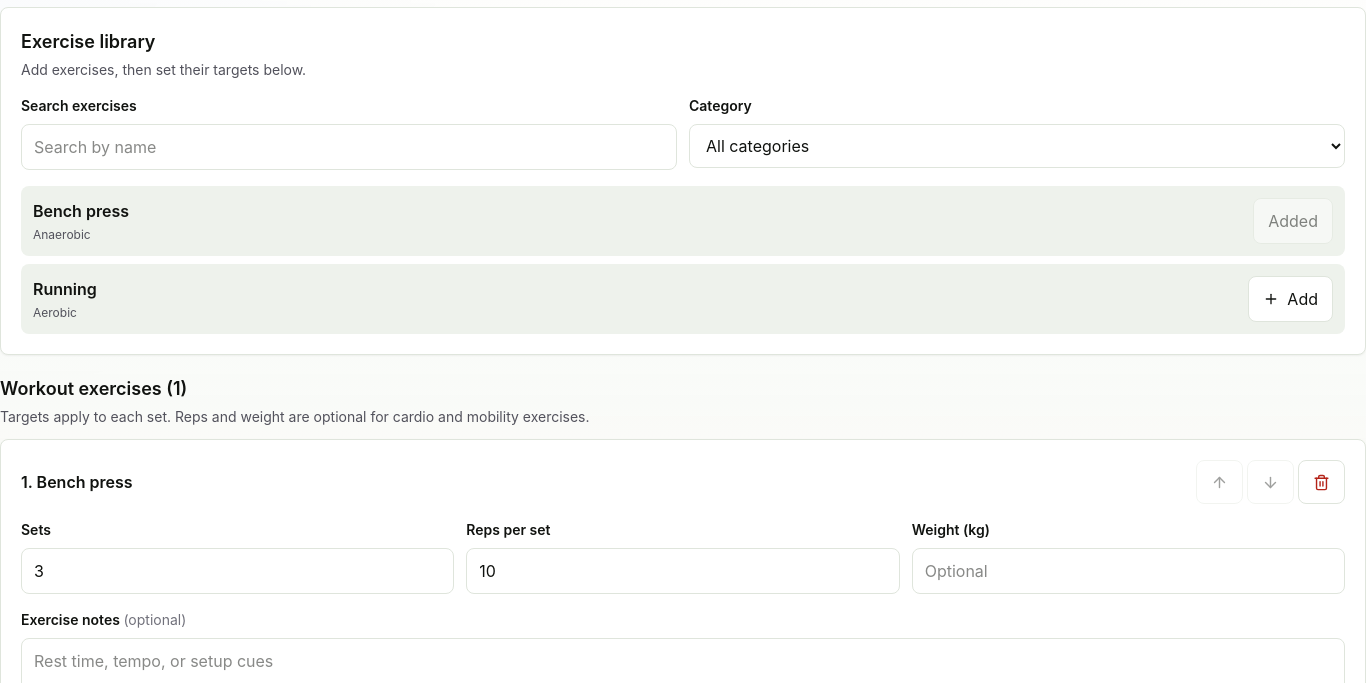
Scenario: workout builder › saves reordered exercises with their own targets and retains the form after a server error
Earlier steps of the test are not shown.
(page scrolled)
Click the button with aria-label "Add Running" at (1291, 299), box [1248,276,1333,322]
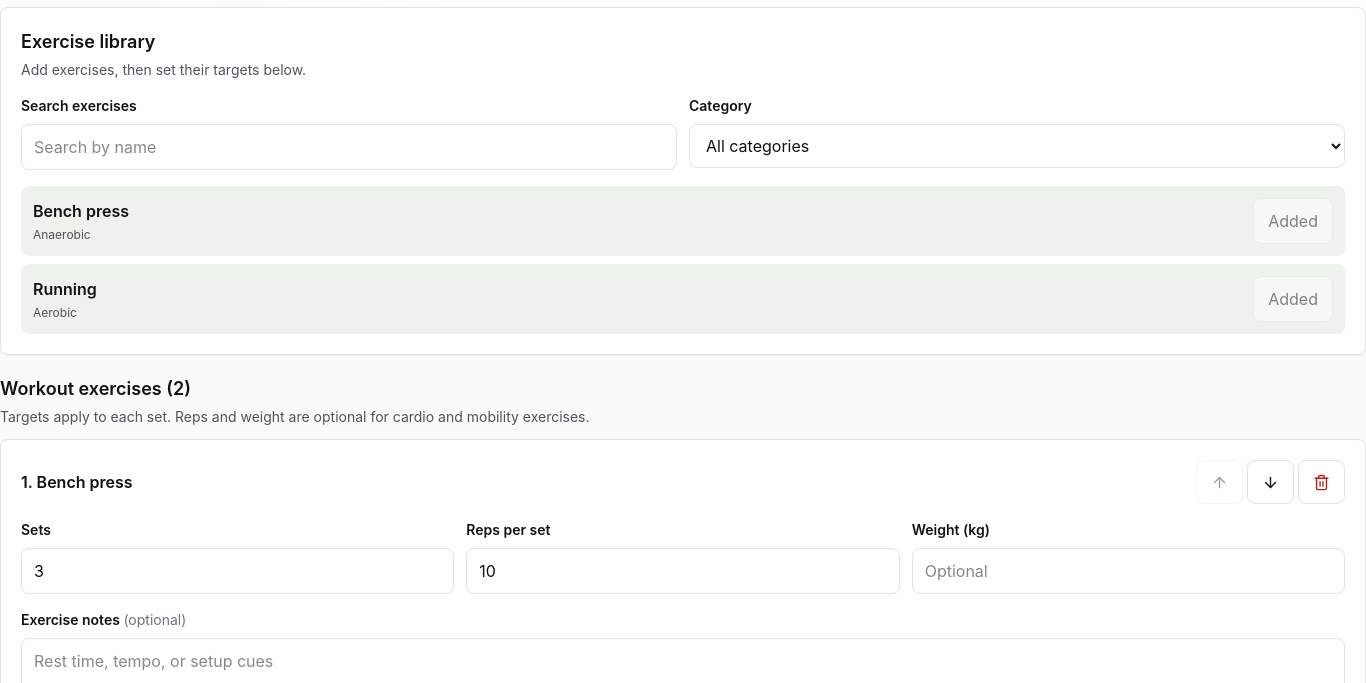
Type "62.5" into the number field labelled "Weight (kg)" at (1128, 571), box [912,548,1345,594]
(page scrolled)
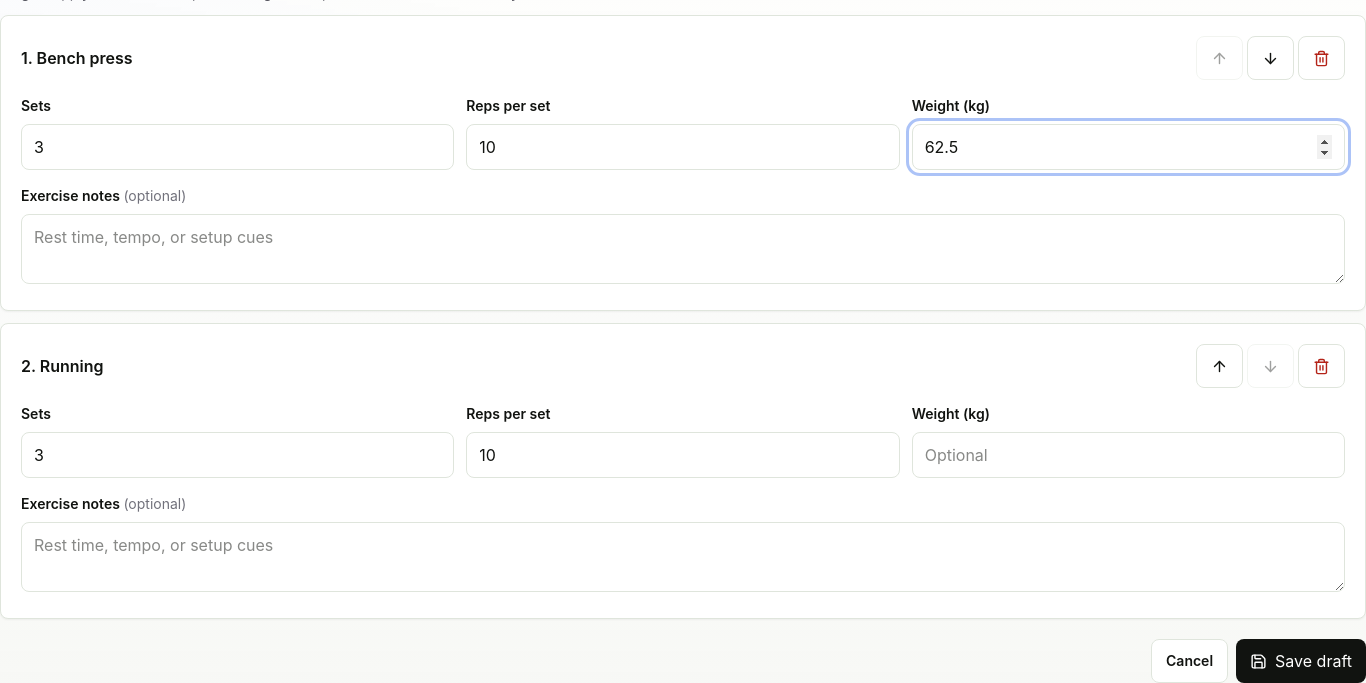
Click the button named "Move Running up" at (1220, 366), box [1196,344,1243,388]
(page scrolled)
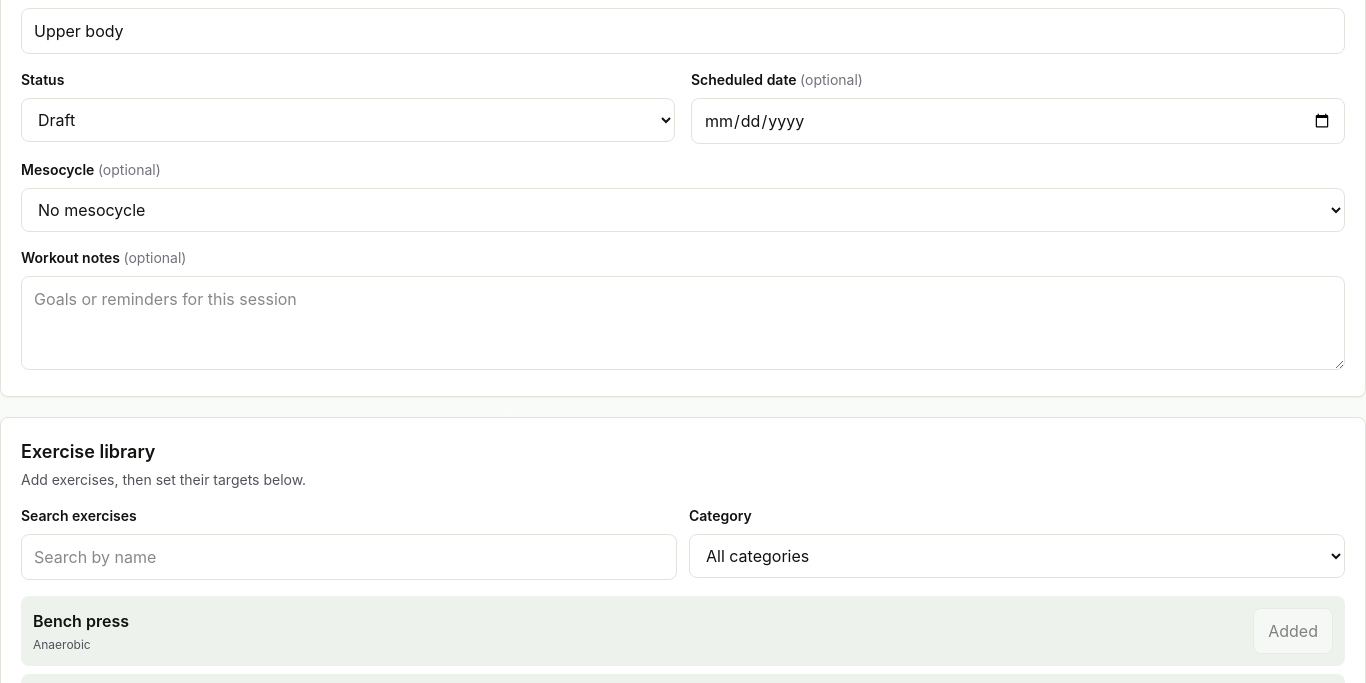
Select "Planned" in the dropdown labelled "Status" at (348, 120), box [21,98,675,142]
Type "2026-12-01" into the date field labelled "Scheduled date" at (1018, 121), box [691,98,1345,144]
Select "Winter block" in the dropdown labelled "Mesocycle (optional)" at (683, 210), box [21,188,1345,232]
(page scrolled)
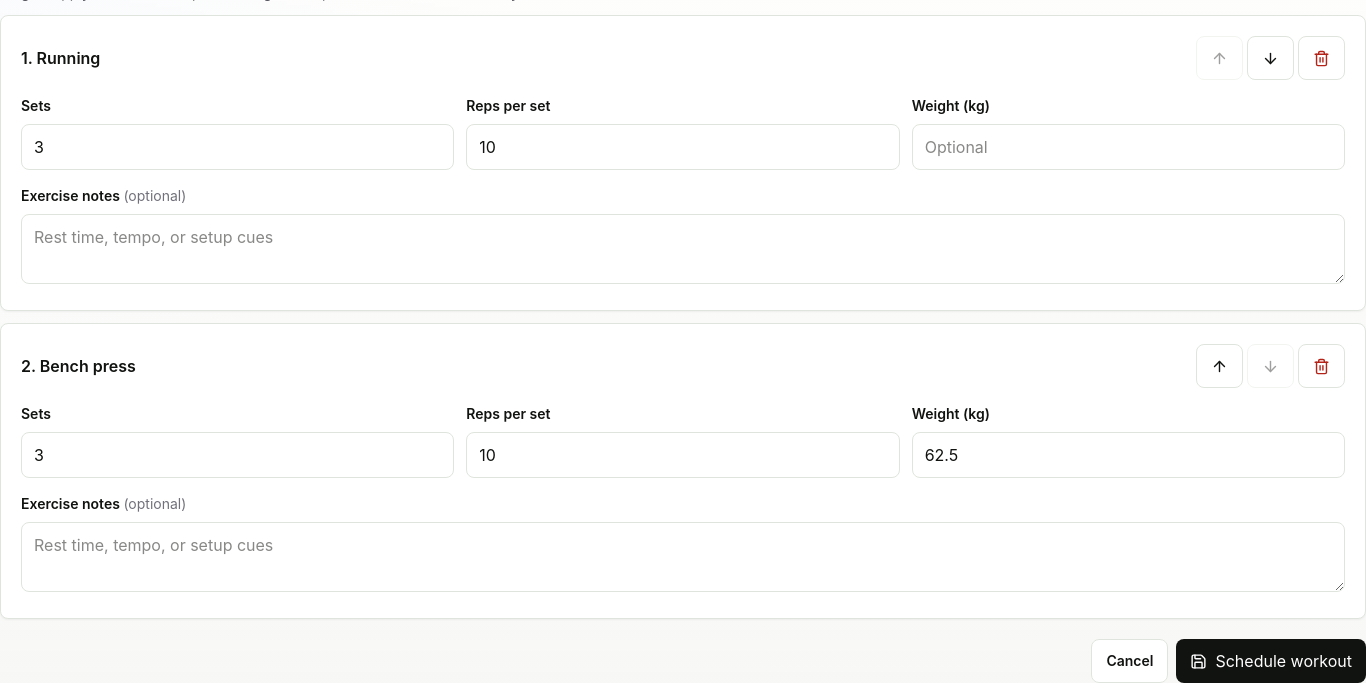
Click the button "Schedule workout" at (1271, 661), box [1176,639,1365,682]
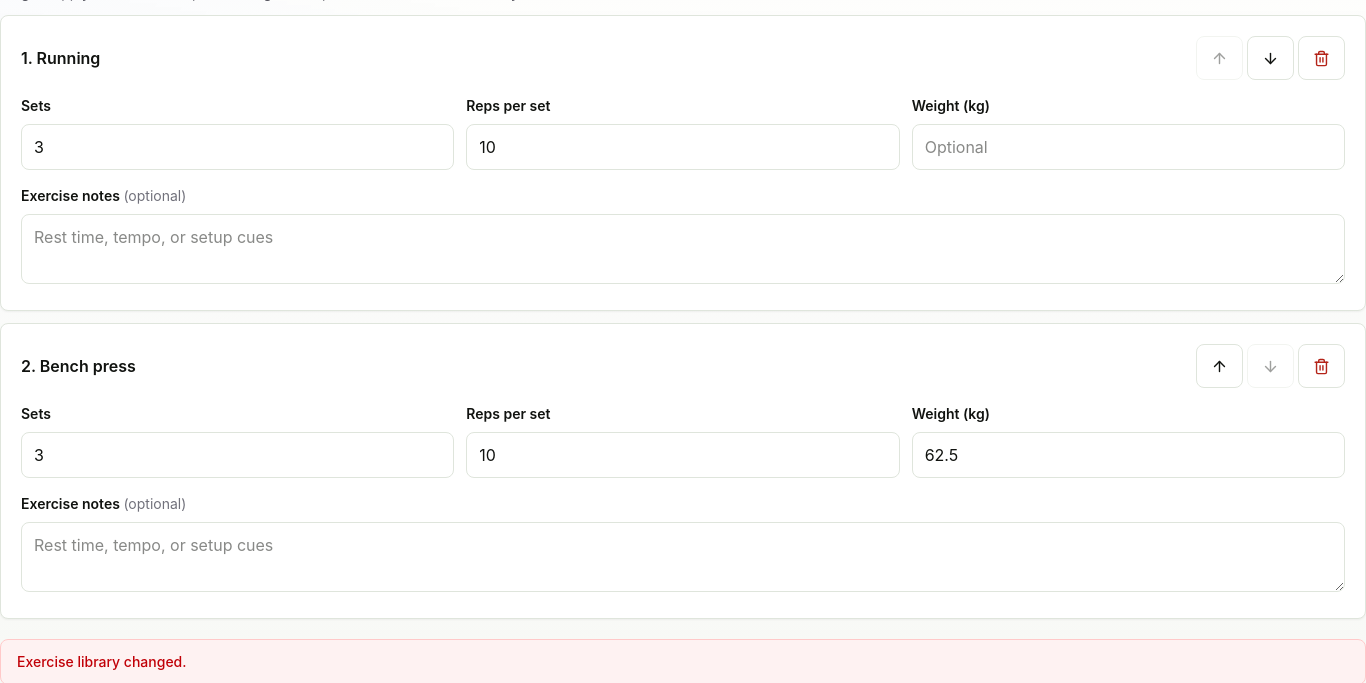
Expected: the message reads "Exercise library changed.", [17,653,186,670]
Click the button named "Remove Running" at (1322, 58), box [1298,36,1345,80]
(page scrolled)
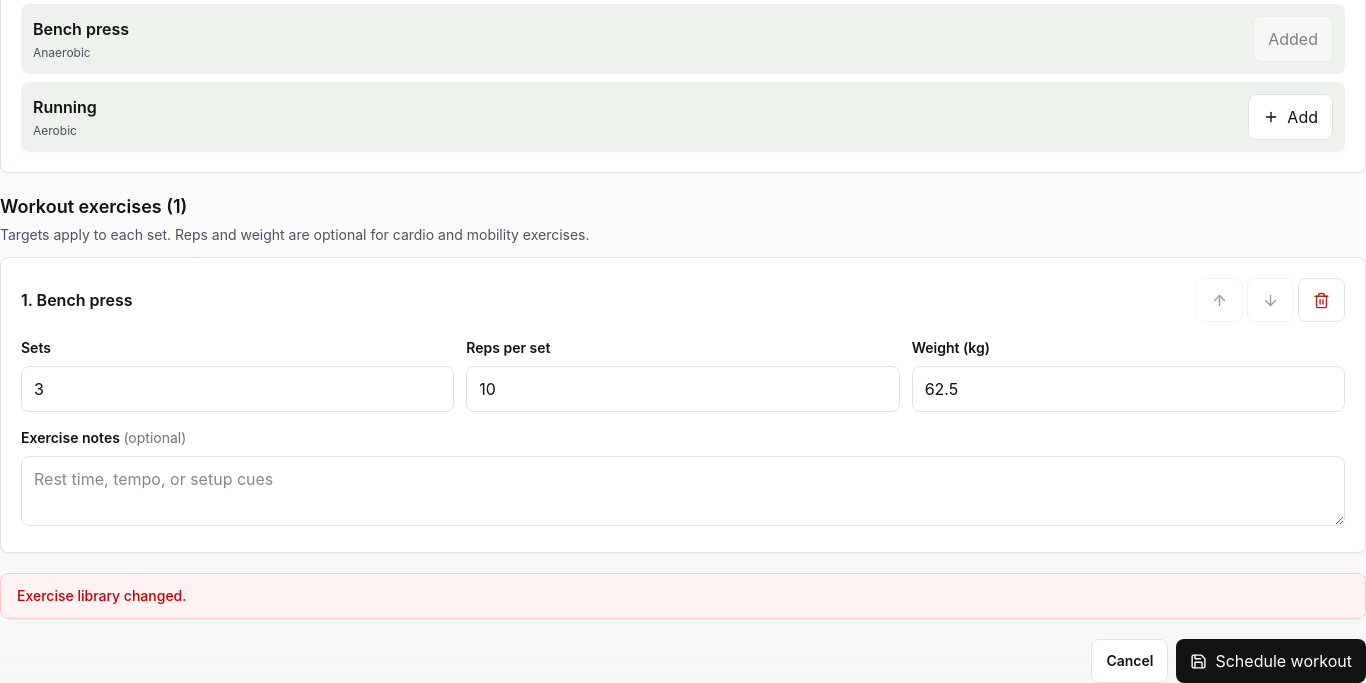
Expected: the heading "Workout exercises (1)" is shown, [0,196,187,217]
Expected: the button with aria-label "Add Running" is enabled, [1248,94,1333,140]
